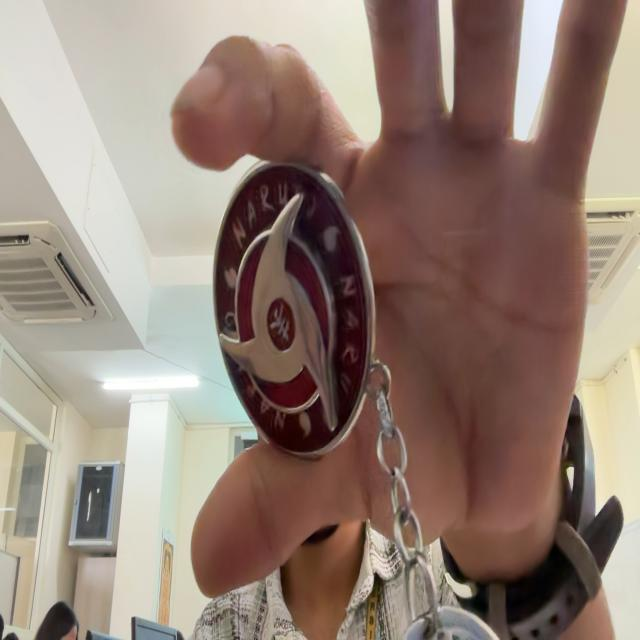dangerous: (214, 163, 374, 457), (357, 543, 401, 639)
